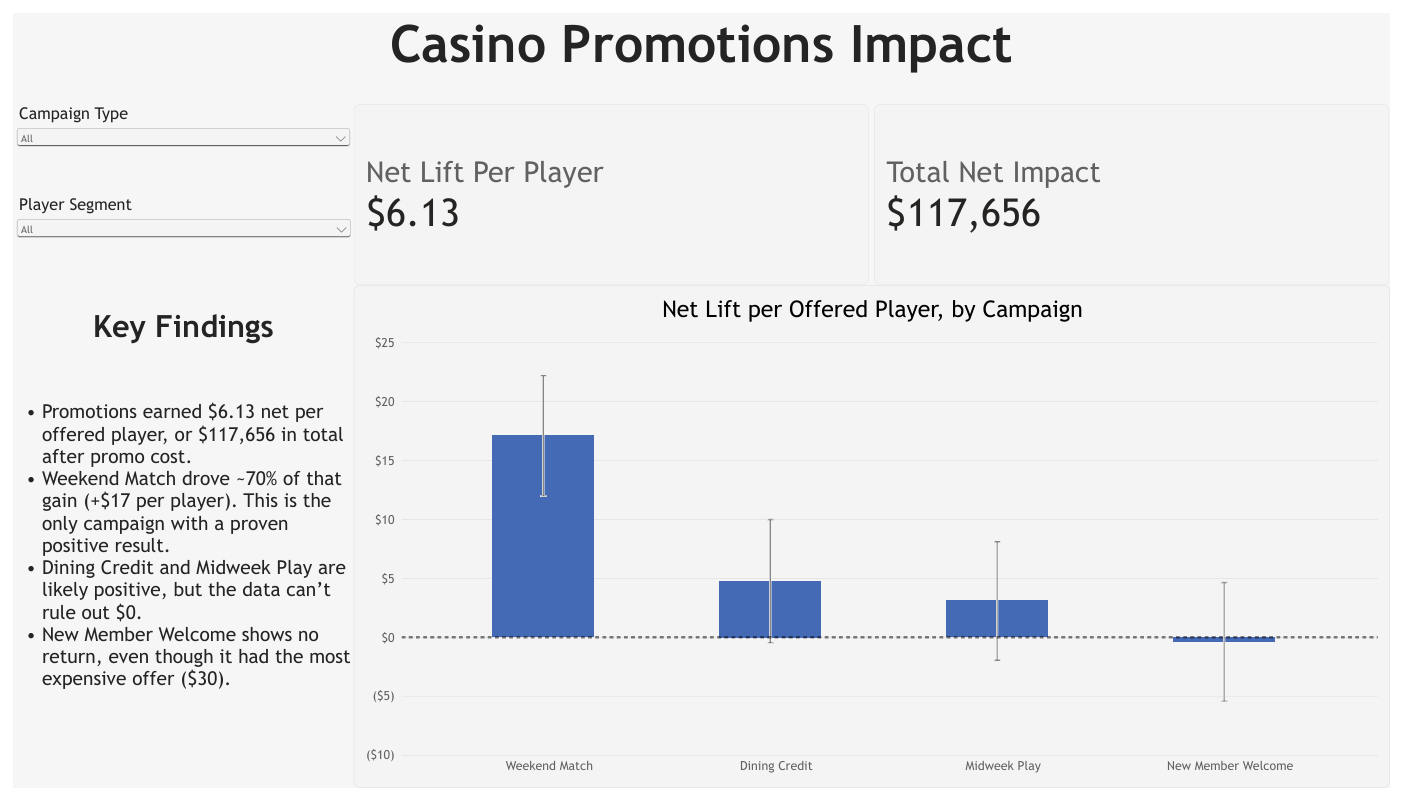

Layout of this report page (visuals, bound fields, positions):
{"tool":"powerbi","page":{"name":"Results","canvas":[1920,1080],"ordinal":0},"visuals":[{"type":"textbox","box":[0,0,1920.5,127.2],"z":0},{"type":"cardVisual","fields":{"Data":["Key Measures.Net Lift per Player","Key Measures.Total Net Impact"]},"box":[475,127.2,1445.2,252.1],"z":1000},{"type":"slicer","title":"Campaign Type","fields":{"Values":["Player Summary.campaign_name"]},"box":[0,127.2,475.3,127.2],"z":2000},{"type":"clusteredColumnChart","title":"Net Lift per Offered Player, by Campaign","fields":{"Category":["Campaign Results.Slice"],"Y":["Key Measures.Result Net Lift"]},"box":[475.3,379.3,1445.2,701],"z":3000},{"type":"slicer","title":"Campaign Type","fields":{"Values":["Player Summary.player_segment"]},"box":[0,254.3,475.7,125],"z":4000},{"type":"textbox","box":[0,379,475,701],"z":5000}]}

Visuals, with their boxes in screenshot pixels (x1, y1, x2, y2), scaled from the page's 1920x1080 canvas onto the 1401x792 screenshot:
textbox: pyautogui.locateOnScreen(0, 0, 1400, 93)
cardVisual - Key Measures.Net Lift per Player x Key Measures.Total Net Impact: pyautogui.locateOnScreen(347, 93, 1400, 278)
"Campaign Type" slicer: pyautogui.locateOnScreen(0, 93, 347, 187)
"Net Lift per Offered Player, by Campaign" clusteredColumnChart: pyautogui.locateOnScreen(347, 278, 1400, 791)
"Campaign Type" slicer: pyautogui.locateOnScreen(0, 186, 347, 278)
textbox: pyautogui.locateOnScreen(0, 278, 347, 791)
